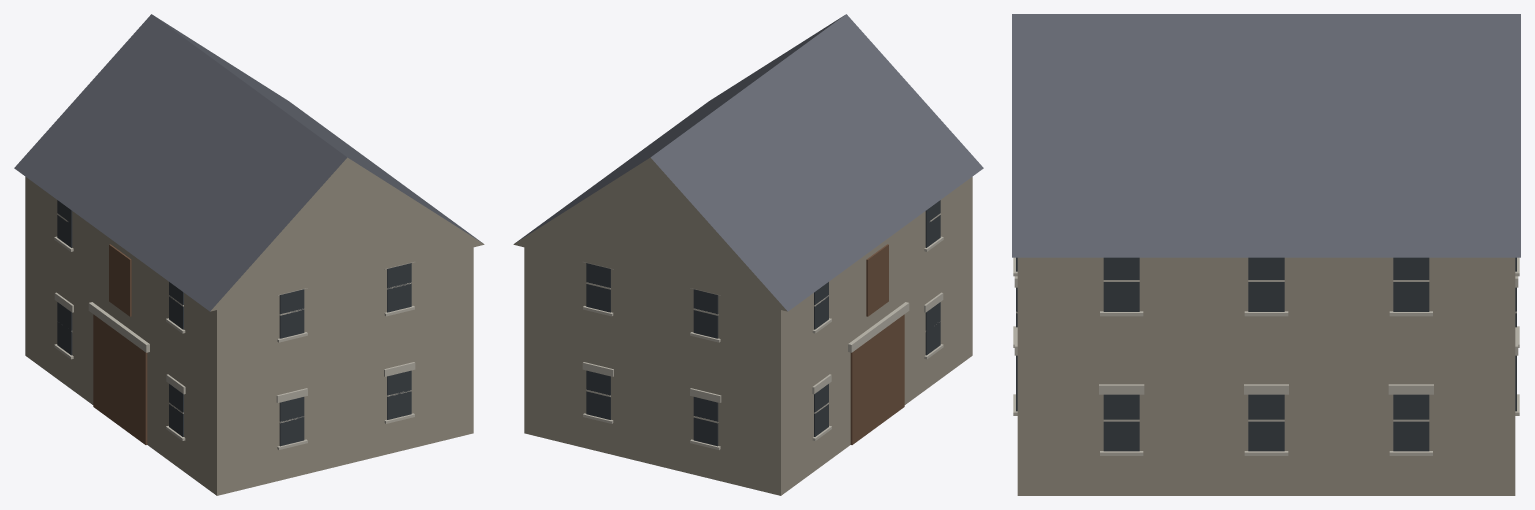
Rendered from murdoch_house_2130_prairie_coach_house__draft_1904.glb.
The picture shows the model from 3 angles, left to right: view 1: azimuth 30°, elevation 25°; view 2: azimuth 150°, elevation 25°; view 3: azimuth 270°, elevation 25°; orthographic projection. The views are drawn at different scales.
Visible parts, largest first — view 1: murdoch_house_2130_prairie_coach_house__draft_1904; view 2: murdoch_house_2130_prairie_coach_house__draft_1904; view 3: murdoch_house_2130_prairie_coach_house__draft_1904.
Boxes of the visible parts, <box> form: murdoch_house_2130_prairie_coach_house__draft_1904: <box>14,14,484,495</box>; murdoch_house_2130_prairie_coach_house__draft_1904: <box>513,14,983,495</box>; murdoch_house_2130_prairie_coach_house__draft_1904: <box>1012,14,1520,495</box>.
Bounding box in the file's own units: 9.1 × 9.77 × 11.24.
